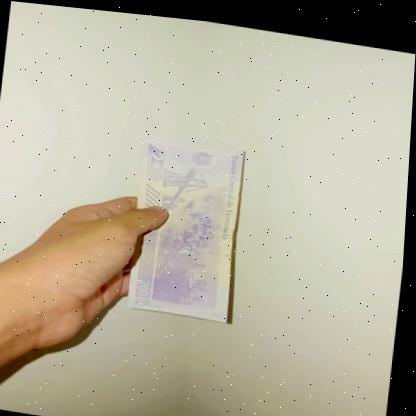two_hundred-back-vef: (125, 130, 247, 319)
